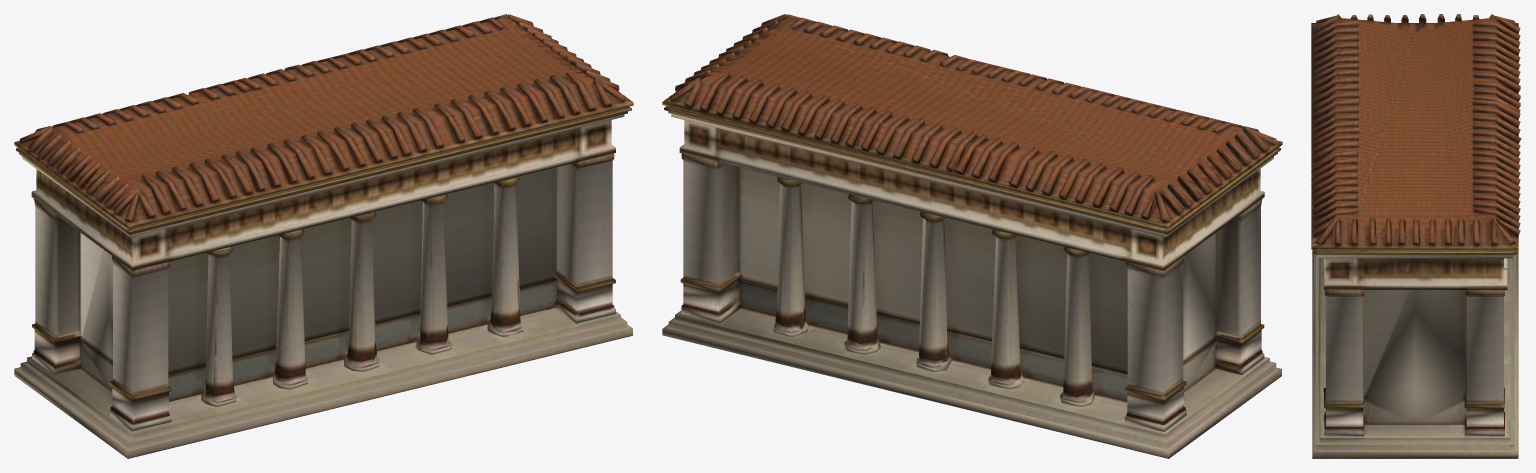
File: greek_stoa_colonnade.glb
The picture shows the model from 3 angles, left to right: view 1: azimuth 30°, elevation 25°; view 2: azimuth 150°, elevation 25°; view 3: azimuth 270°, elevation 25°; orthographic projection. The views are drawn at different scales.
Size of the model in its own units: 9.31 by 4.5 by 3.7.
1 material, 1 textured.
